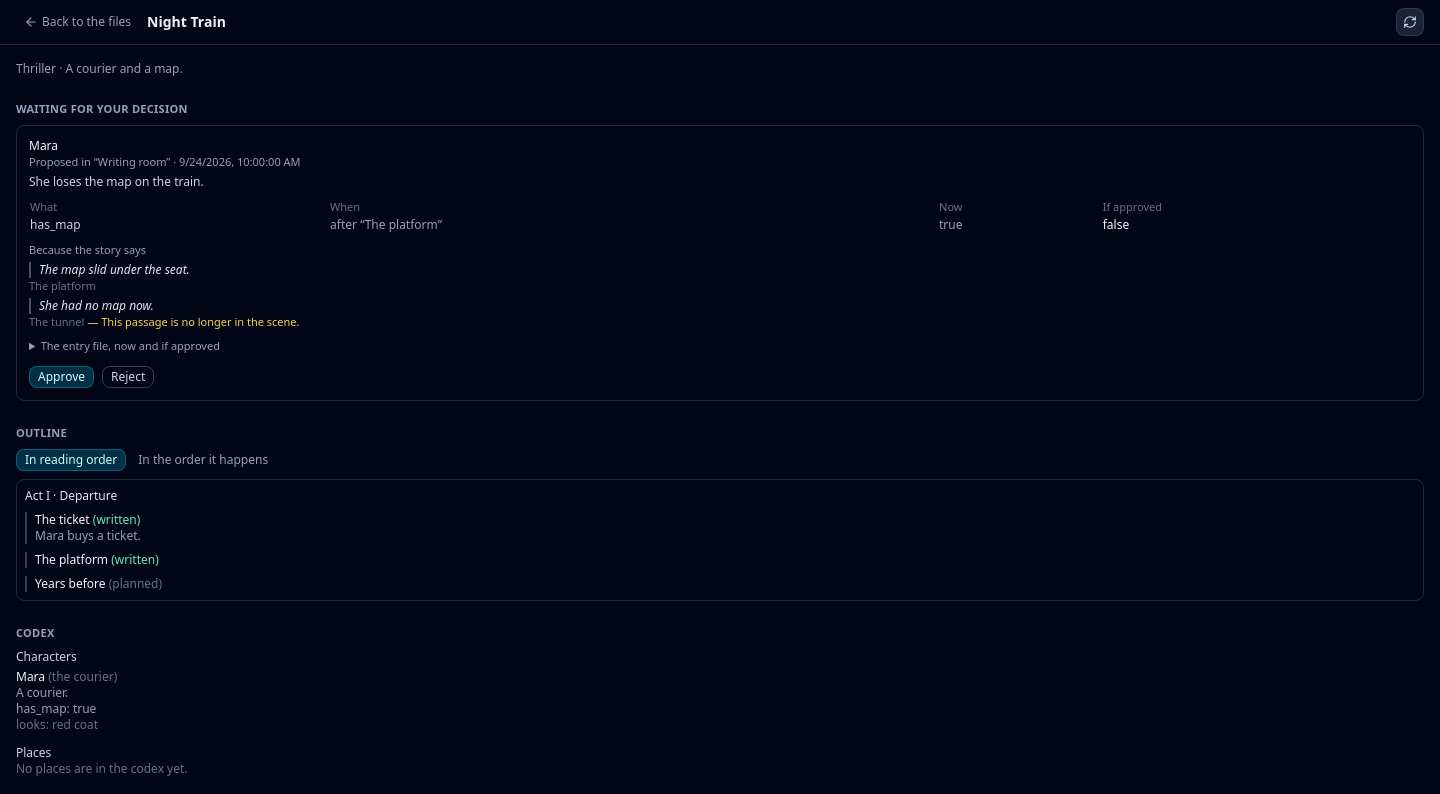
it: StoryView, a story in Files (#1560) › a decision that failed without a reason says so plainly
Click the button with test id "story-approve" at [62, 377], box [29,366,94,388]
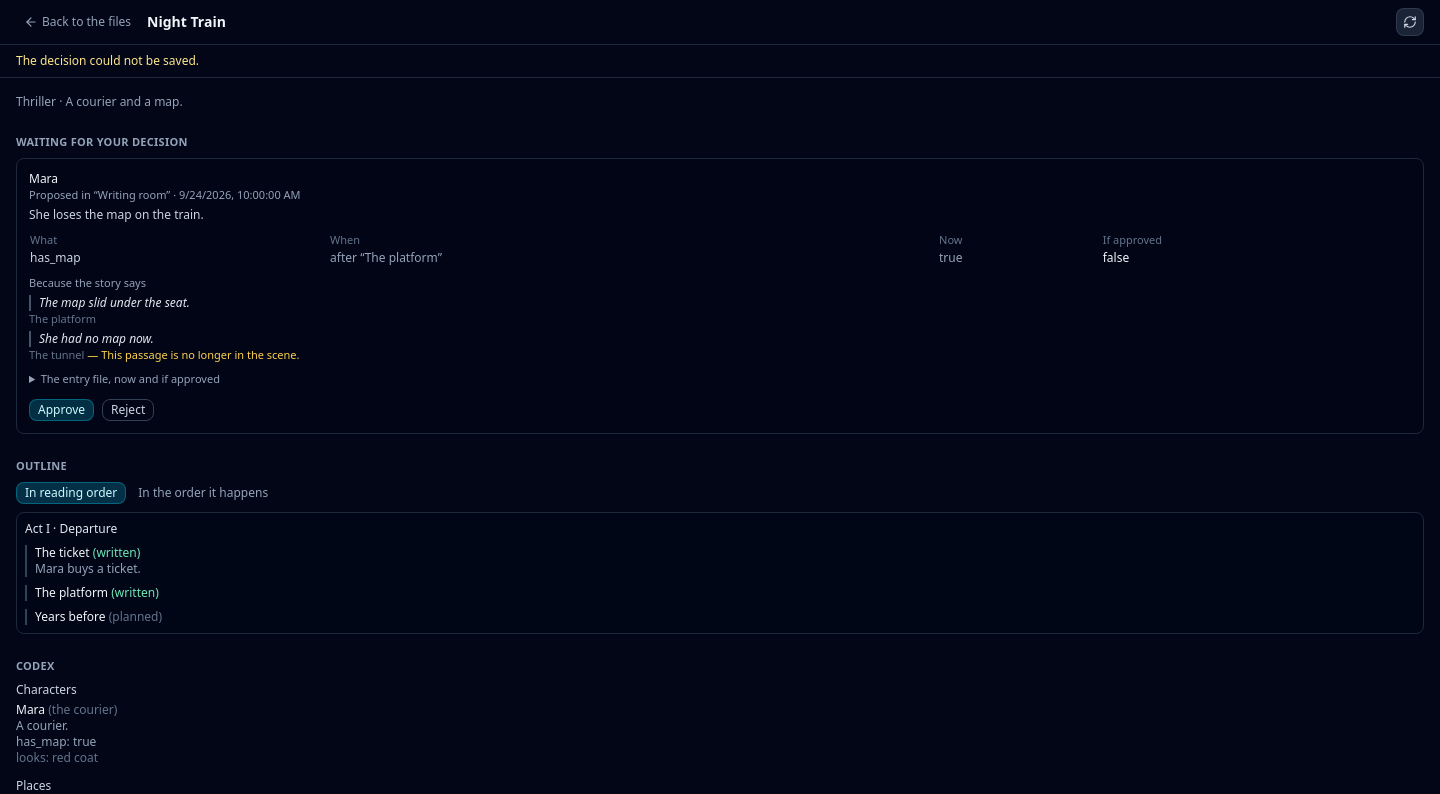
Expected: the message with test id "story-view-notice" reads "The decision could not be saved.", [16,52,199,69]
